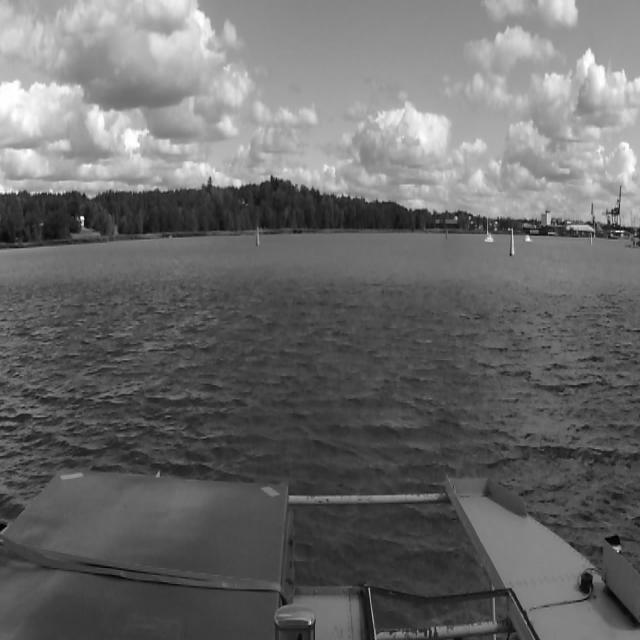buoy: (510, 229, 514, 255), (256, 228, 260, 245), (446, 228, 448, 238)
ship: (484, 209, 494, 243), (525, 236, 531, 242)
